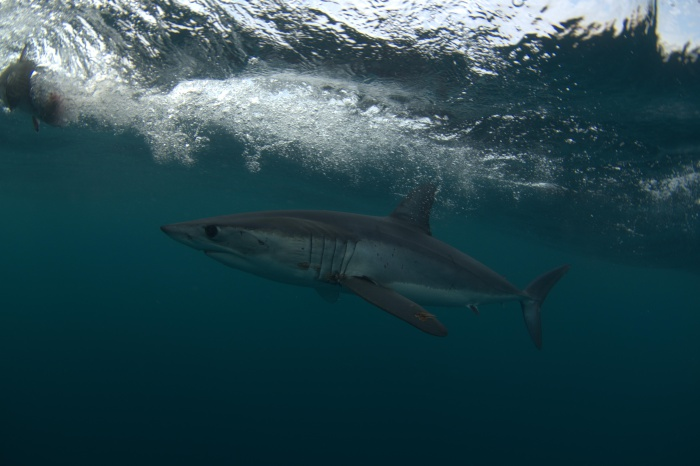Mako: (160, 179, 589, 364)
